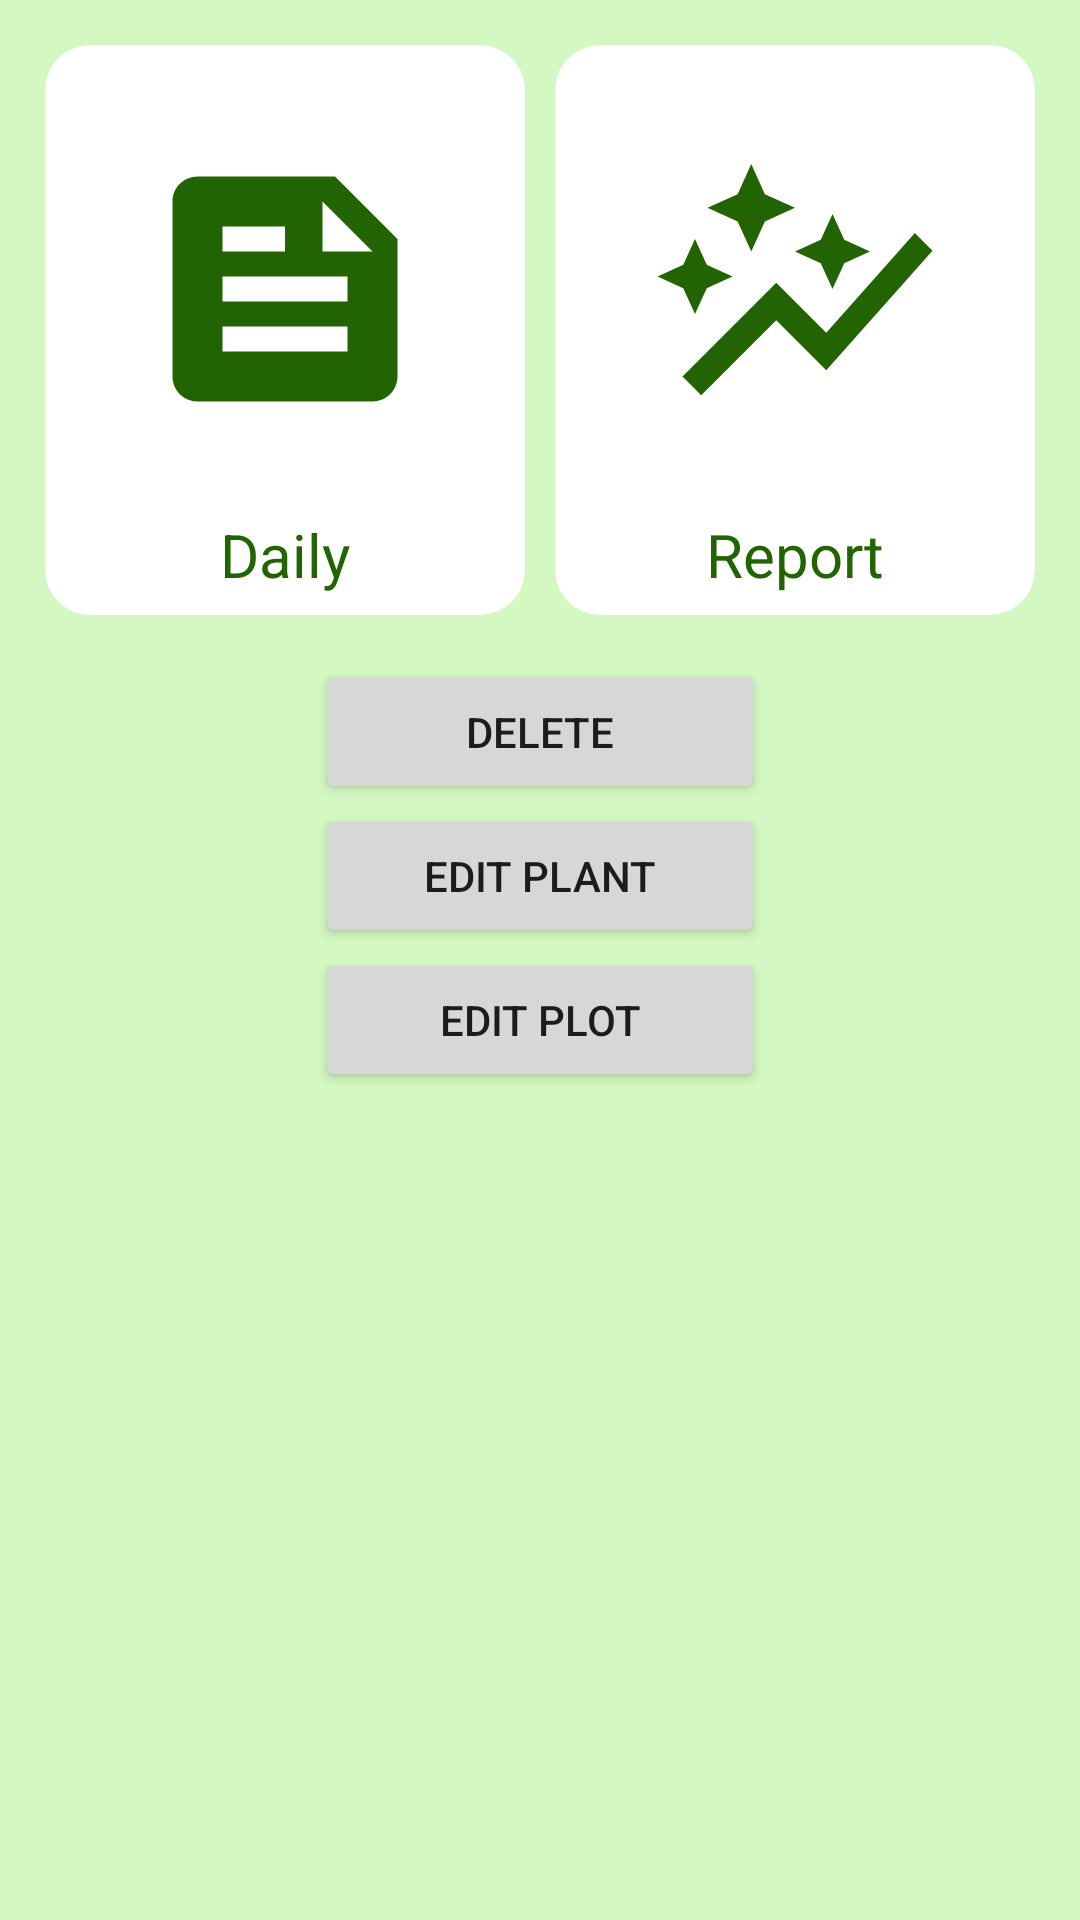

Icon bounding boxes for this 1080x1920 phone screenshot, format (x1, y1, x2, y2):
graph: (657, 164, 933, 395)
